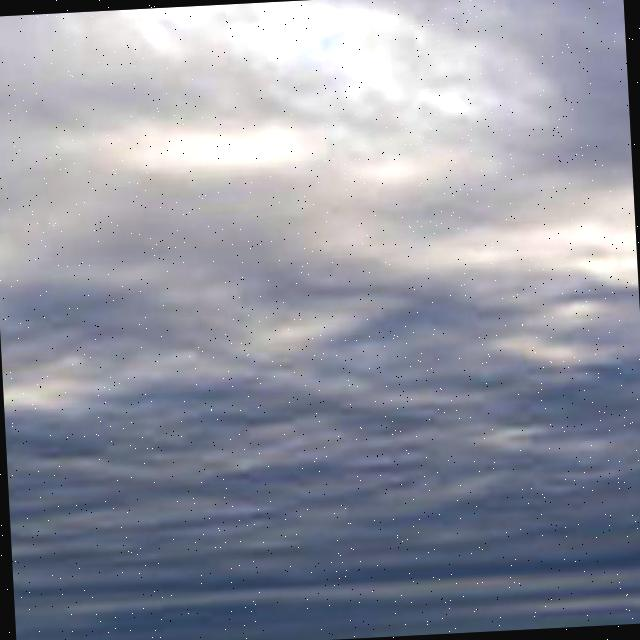As: (1, 1, 640, 613)
